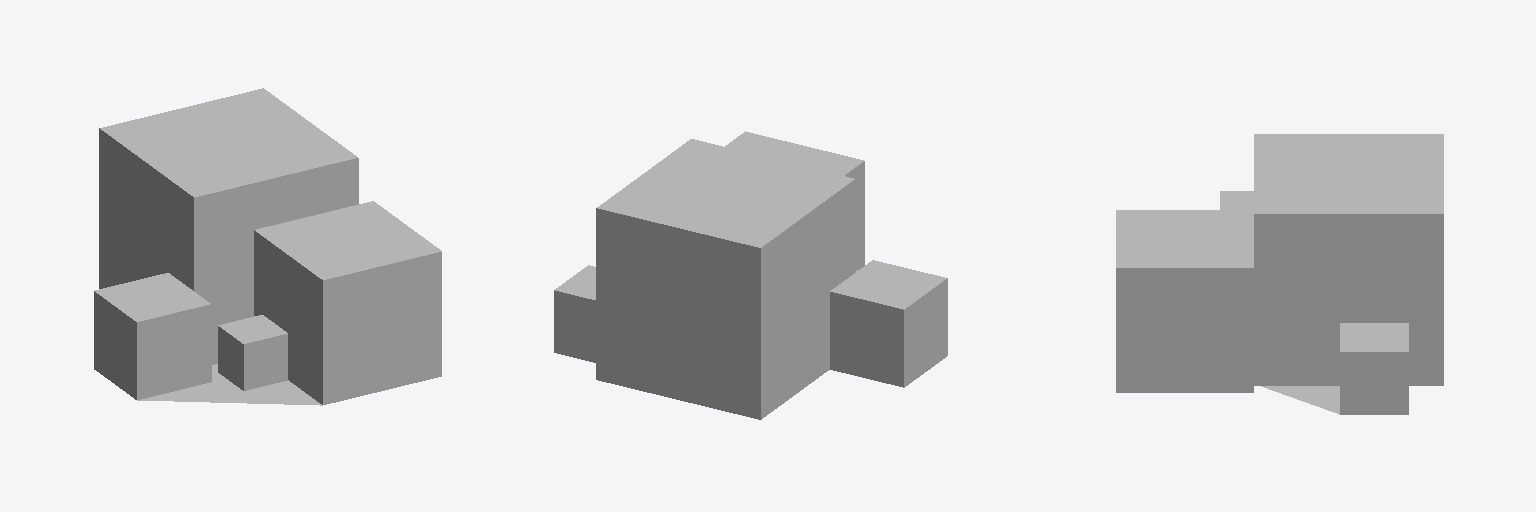
The model's file is Endless light Stones models.obj.
3 renders of one model, left to right at view 1: azimuth 30°, elevation 25°; view 2: azimuth 150°, elevation 25°; view 3: azimuth 270°, elevation 25°, orthographic.
Visible parts, largest first — view 1: Stones; view 2: Stones; view 3: Stones.
Part boxes in pixels (bbox=[...]): Stones: bbox=[94, 88, 441, 405]; Stones: bbox=[554, 131, 947, 419]; Stones: bbox=[1116, 134, 1443, 414].
Bounding box in the file's own units: 2 × 1.1 × 1.9.